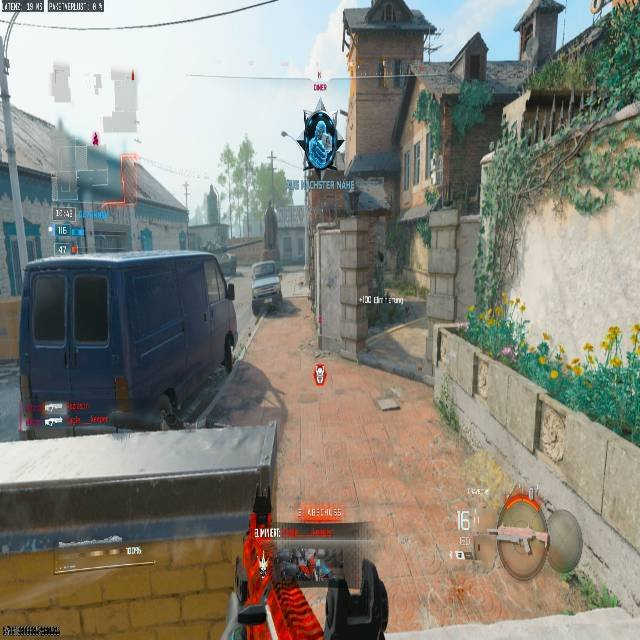player: (156, 386, 185, 431)
